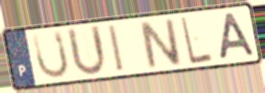A: (217, 11, 258, 61)
I: (106, 23, 127, 74)
L: (179, 15, 215, 66)
N: (136, 17, 185, 71)
U: (65, 24, 109, 79), (30, 28, 71, 81)
